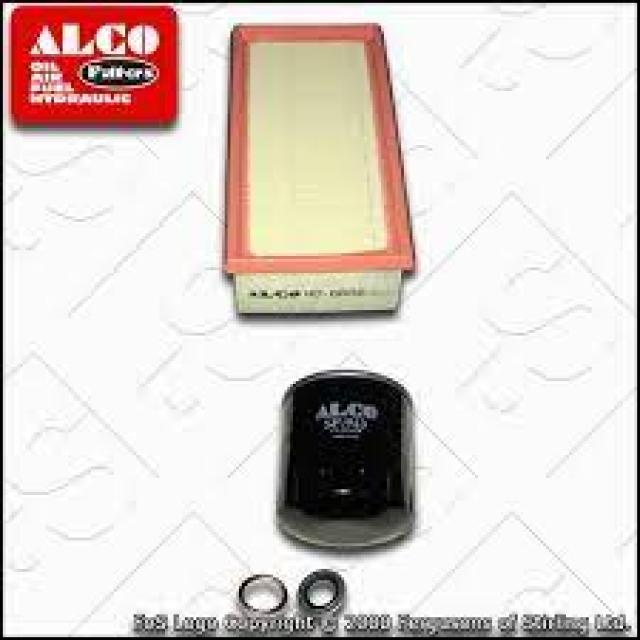air_filter: (223, 16, 422, 324)
oil_filter: (276, 363, 428, 546)
